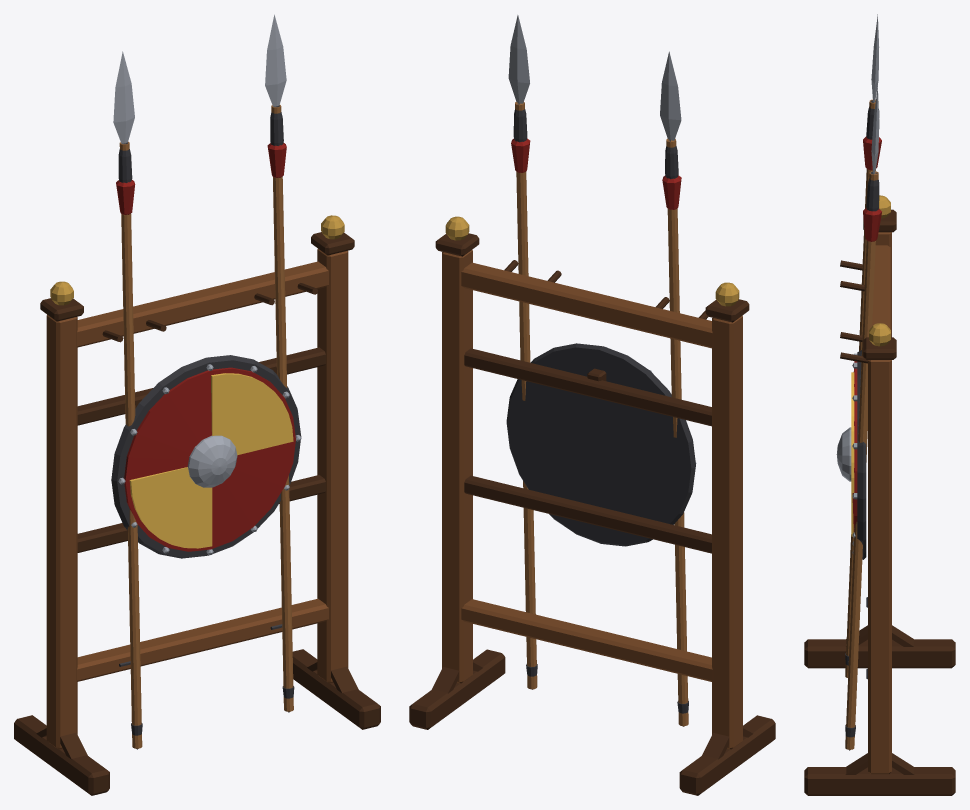
The model's file is weapon_rack.obj.
3 views of the same model, side by side, from view 1: azimuth 30°, elevation 25°; view 2: azimuth 150°, elevation 25°; view 3: azimuth 270°, elevation 25° (orthographic). The views are drawn at different scales.
Visible parts, largest first — view 1: box.001, box.006, lathe.019, box.010, box.011, prism.001, prism, lathe.018, lathe.006, lathe.012, box, box.005 (+7 smaller); view 2: lathe.018, box.001, box.006, box.010, box.011, box.012, box.014, lathe.006, lathe.012, box, box.005, lathe.009 (+3 smaller); view 3: box.006, box.005, lathe.012, box, box.010, lathe.018, lathe.006, lathe.020, lathe.019, box.007, lathe.016, lathe.009 (+10 smaller).
Boxes of the visible parts, x1,y1,x2,y2 form: box.001: [46, 314, 77, 749]; box.006: [317, 249, 348, 683]; lathe.019: [124, 367, 295, 551]; box.010: [52, 261, 328, 347]; box.011: [77, 598, 328, 681]; prism.001: [129, 467, 212, 548]; prism: [211, 373, 293, 455]; lathe.018: [111, 355, 301, 558]; lathe.006: [119, 141, 142, 748]; lathe.012: [271, 105, 293, 711]; box: [14, 715, 109, 795]; box.005: [292, 649, 380, 729]; lathe.018: [506, 343, 695, 546]; box.001: [712, 315, 742, 749]; box.006: [442, 250, 472, 683]; box.010: [461, 262, 742, 350]; box.011: [461, 599, 712, 681]; box.012: [464, 475, 711, 553]; box.014: [464, 348, 711, 426]; lathe.006: [666, 138, 688, 726]; lathe.012: [515, 102, 537, 689]; box: [679, 715, 775, 795]; box.005: [409, 649, 505, 729]; lathe.009: [660, 51, 681, 140]; box.006: [868, 360, 891, 774]; box.005: [804, 767, 955, 795]; lathe.012: [845, 171, 878, 749]; box: [804, 639, 955, 668]; box.010: [872, 245, 890, 388]; lathe.018: [857, 350, 866, 559]; lathe.006: [845, 99, 878, 677]; lathe.020: [836, 427, 851, 481]; lathe.019: [852, 361, 857, 531]; box.007: [863, 337, 896, 359]; lathe.016: [863, 208, 881, 241]; lathe.009: [871, 14, 879, 102].
Size of the model in its own units: 1.11 by 2.48 by 0.5.
